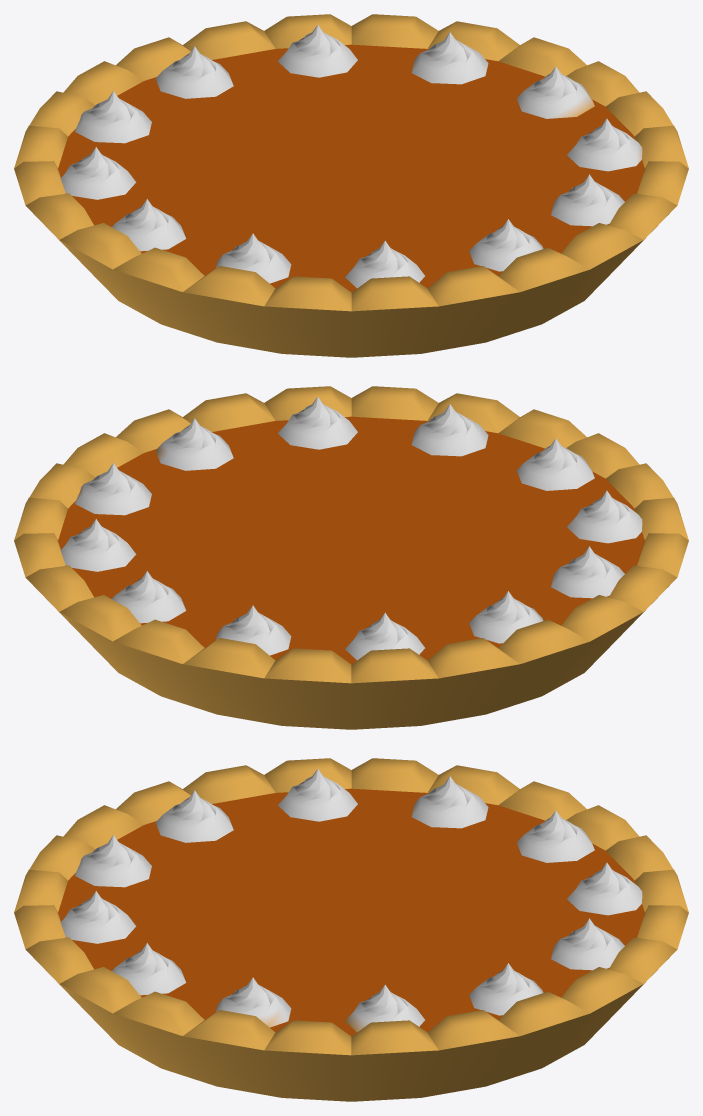
Rendered from pumpkin_pie.glb.
3 views of the same model, one above another, from view 1: azimuth 30°, elevation 25°; view 2: azimuth 150°, elevation 25°; view 3: azimuth 270°, elevation 25° (orthographic).
Visible parts, largest first — view 1: Cylinder; view 2: Cylinder; view 3: Cylinder.
Boxes of the visible parts, x1,y1,x2,y2 form: Cylinder: (14, 14, 688, 357); Cylinder: (14, 386, 688, 729); Cylinder: (14, 758, 688, 1101).
Bounding box in the file's own units: 25.6 × 4.68 × 25.6.
